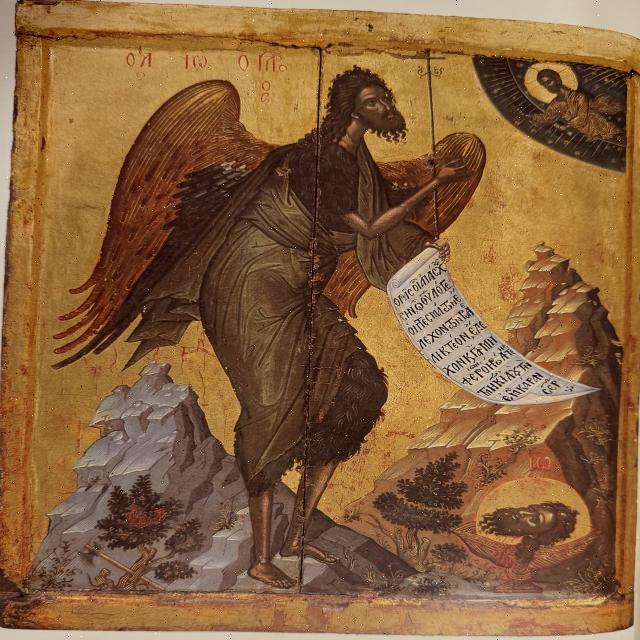angel: (64, 38, 484, 572)
aura: (524, 61, 582, 105)
christ_pantocrator: (469, 50, 629, 170)
scepter: (404, 47, 464, 263)
scroll: (367, 235, 605, 411)
wing: (37, 77, 284, 370), (324, 130, 492, 312)
